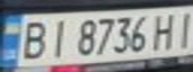3: (112, 15, 136, 55)
6: (127, 12, 154, 53)
7: (93, 15, 118, 56)
8: (72, 16, 100, 56)
B: (15, 17, 51, 61)
H: (148, 10, 181, 51)
I: (42, 16, 72, 60), (172, 8, 193, 50)
